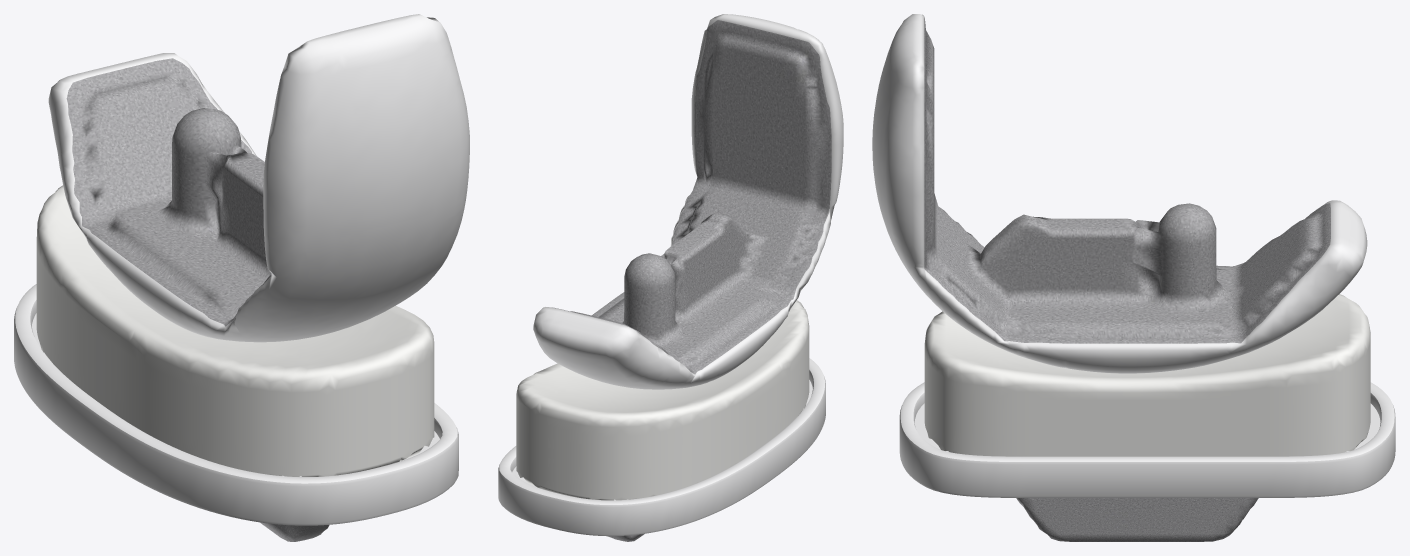
The model's file is uka_iu_lod1.glb.
3 views of the same model, side by side, from view 1: azimuth 30°, elevation 25°; view 2: azimuth 150°, elevation 25°; view 3: azimuth 270°, elevation 25° (orthographic). The views are drawn at different scales.
Parts seen in each view (by area): view 1: femoral.001, insert.001, tray.001; view 2: femoral.001, insert.001, tray.001; view 3: femoral.001, insert.001, tray.001.
Part boxes in pixels (<box>): femoral.001: <box>48,14,469,342</box>; insert.001: <box>36,185,434,476</box>; tray.001: <box>14,284,458,541</box>; femoral.001: <box>533,14,843,389</box>; insert.001: <box>516,300,809,500</box>; tray.001: <box>498,358,825,541</box>; femoral.001: <box>872,14,1367,373</box>; insert.001: <box>924,294,1370,456</box>; tray.001: <box>899,382,1395,541</box>.
Size of the model in its own units: 0.0265 by 0.055 by 0.0527.
Materials: 3 (1 with a texture image).
